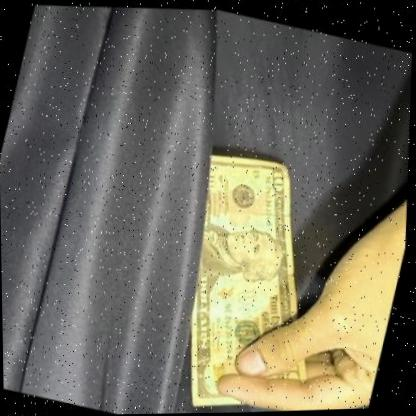ten-front: (152, 132, 364, 414)
